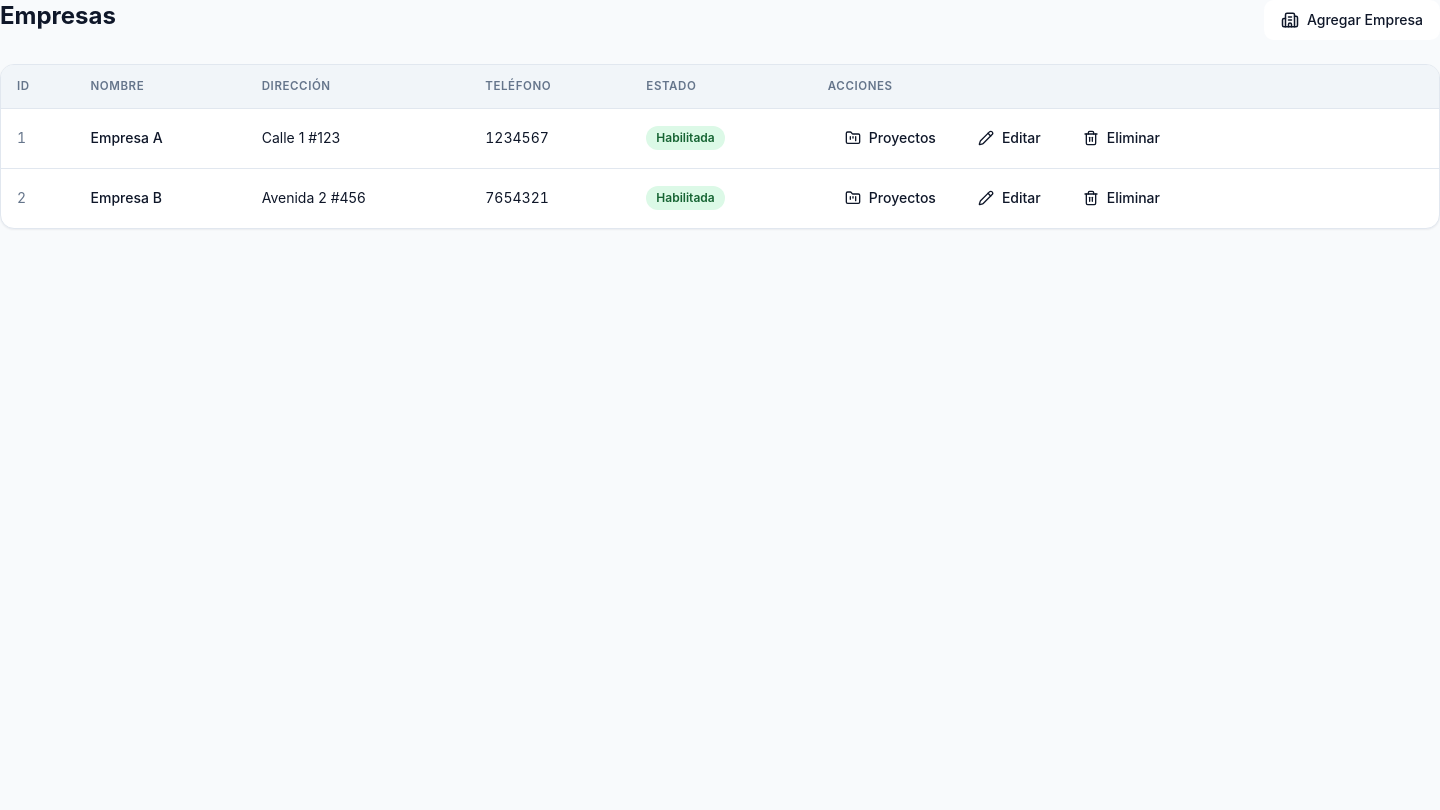
Test case: EmpresasPage Integration Tests › Full creation flow › should create a new empresa: click "Agregar Empresa" → fill fields → click "Guardar" → new empresa appears in table
expect the text "Empresa A" is shown: met, box 74,108 -> 246,168
// Click "Agregar Empresa" button (it's the one in the header, not the modal title)
Step 1. Click the button "Agregar Empresa" → (1352, 20), box 1264,0 -> 1439,40
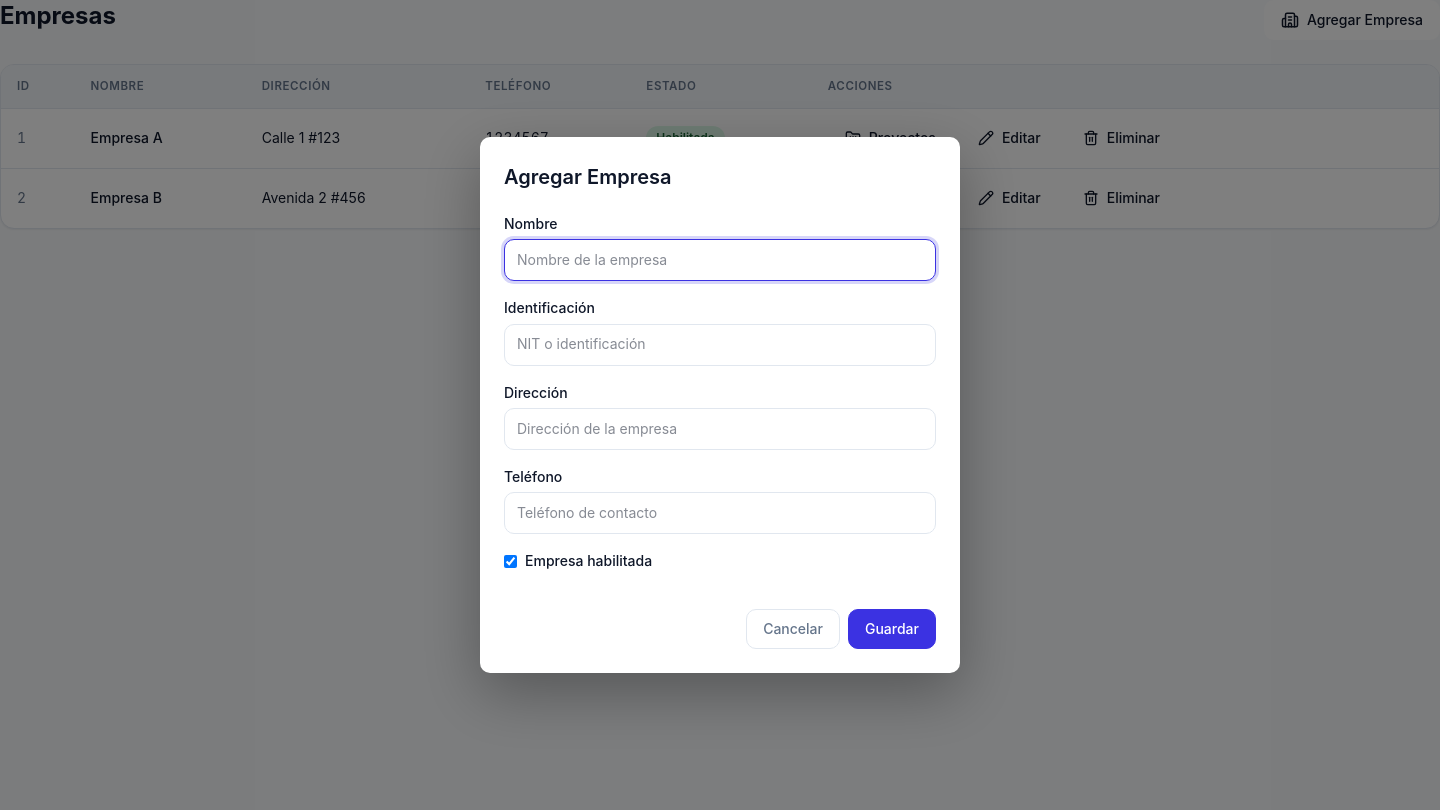
expect the dialog is shown: met, box 480,137 -> 960,673
Step 2. Type "Empresa Nueva" into the field labelled "Nombre" → (720, 260), box 504,239 -> 936,281
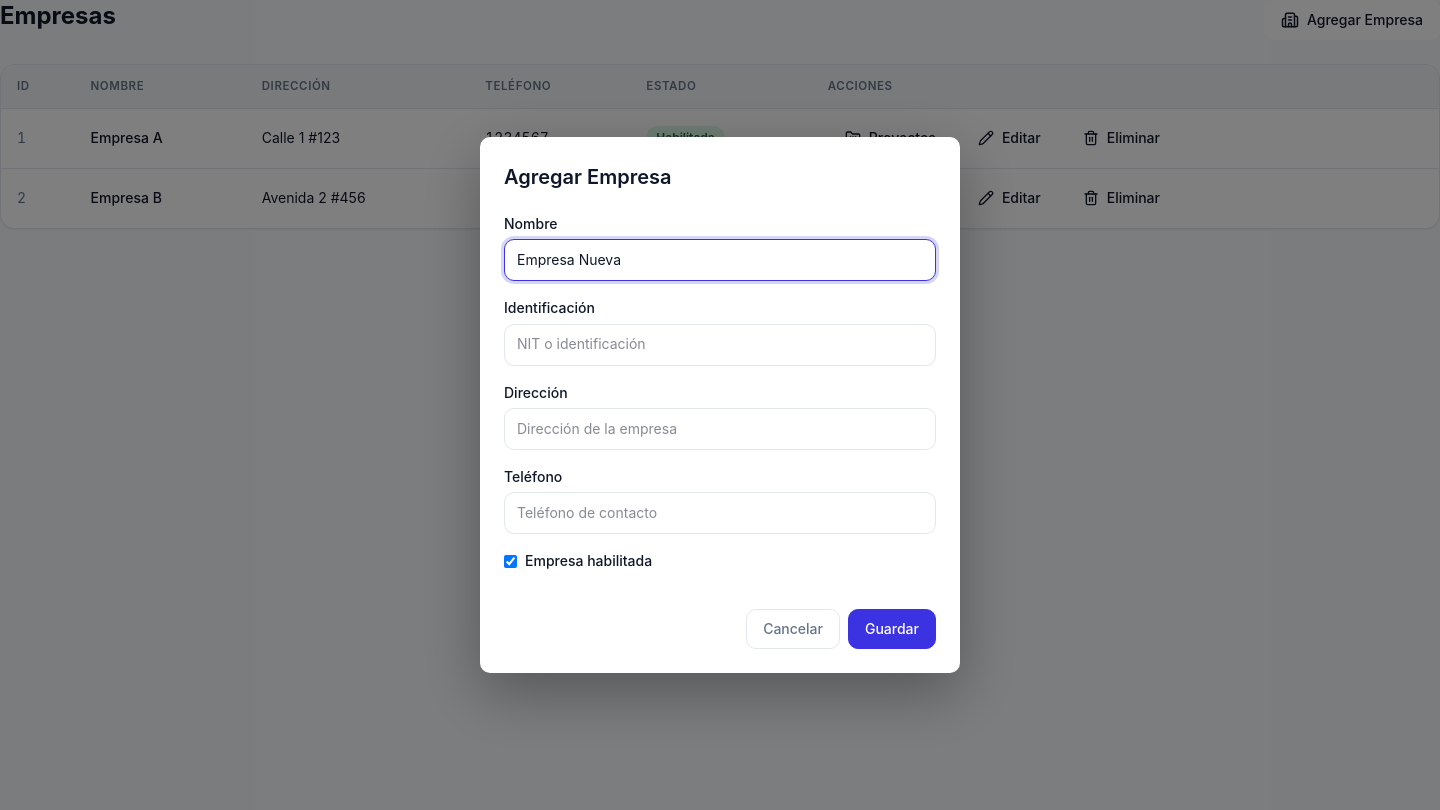
Step 3. Type "NIT-003" into the field labelled "Identificación" → (720, 345), box 504,324 -> 936,366
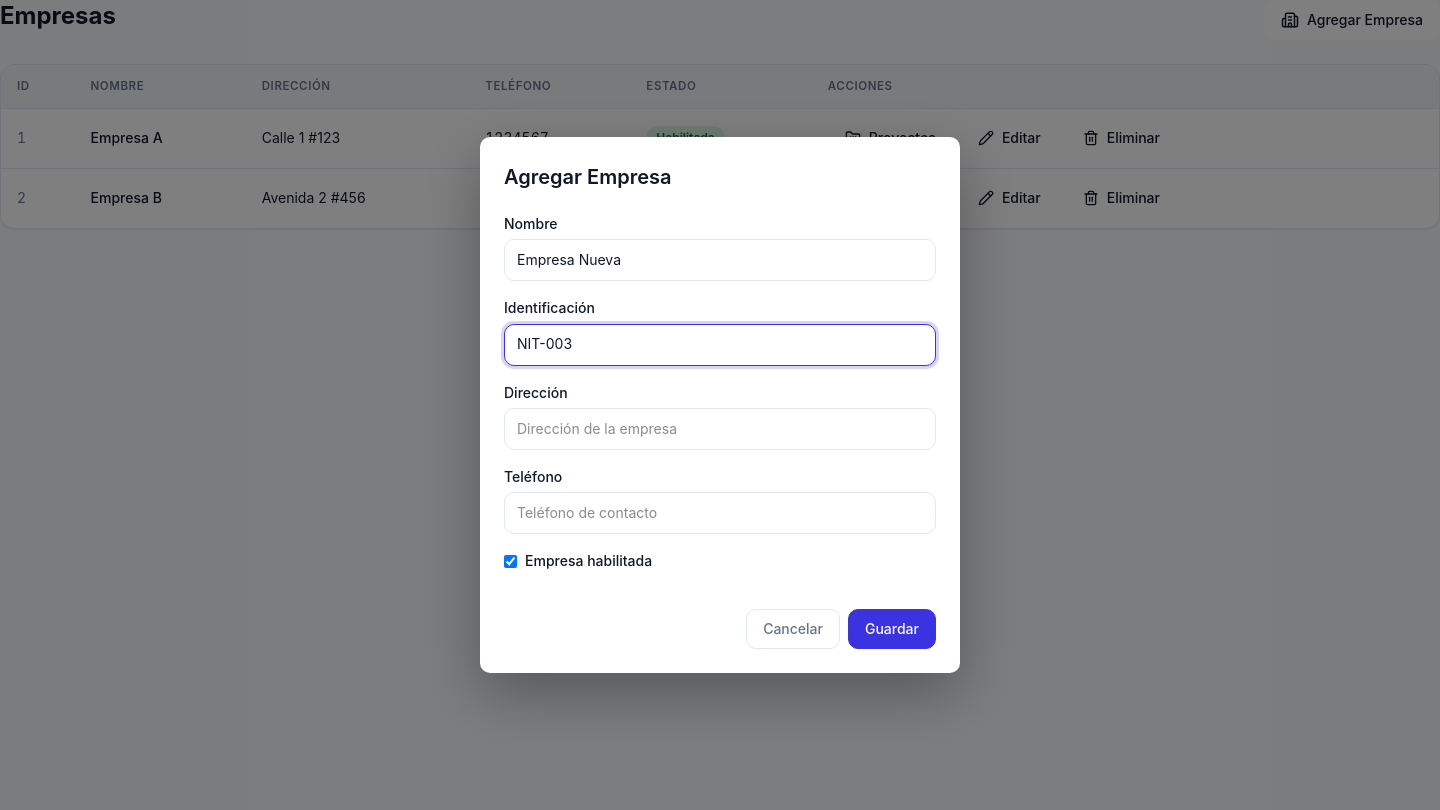
Step 4. Type "Calle Nueva #789" into the field labelled "Dirección" → (720, 429), box 504,408 -> 936,450
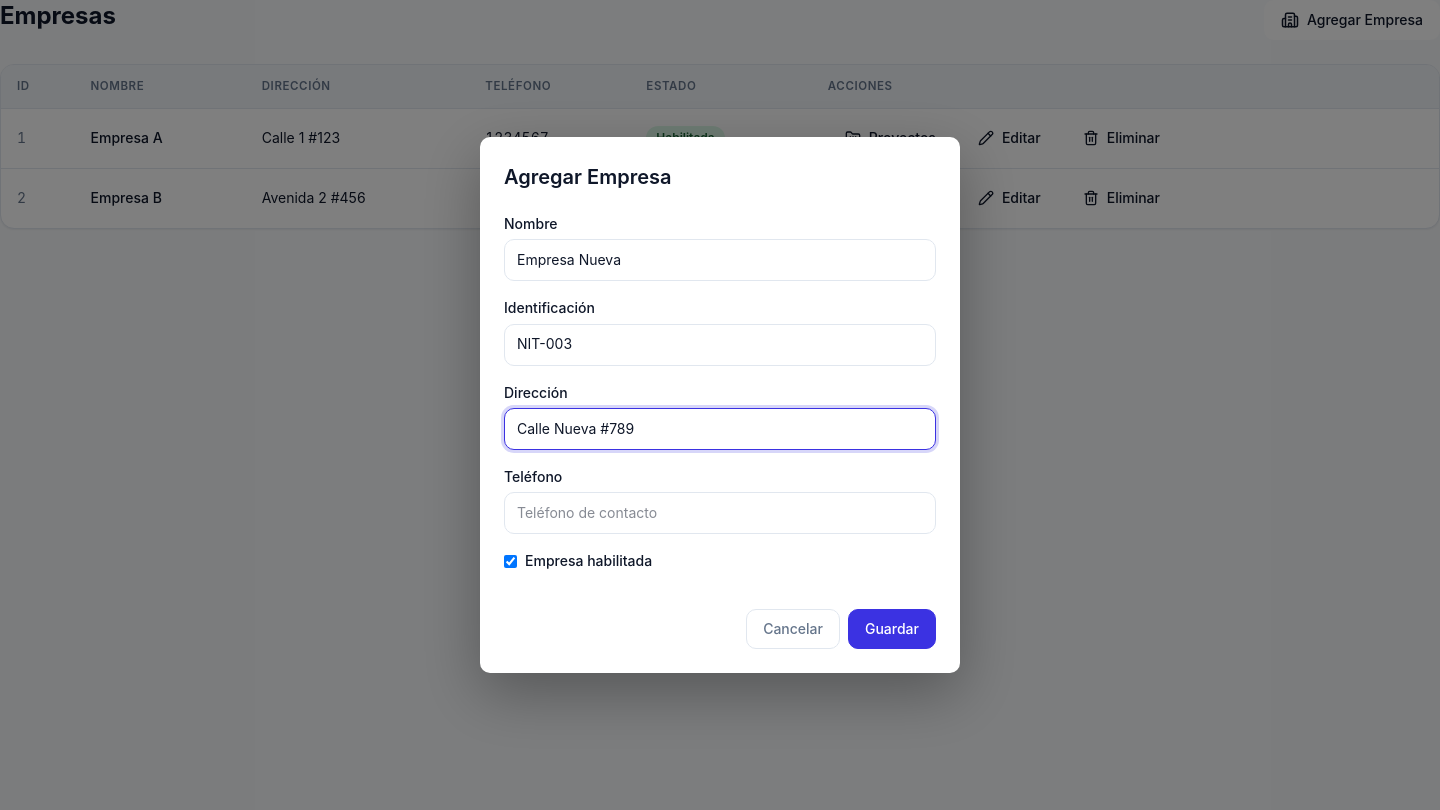
Step 5. Type "9876543" into the field labelled "Teléfono" → (720, 513), box 504,492 -> 936,534
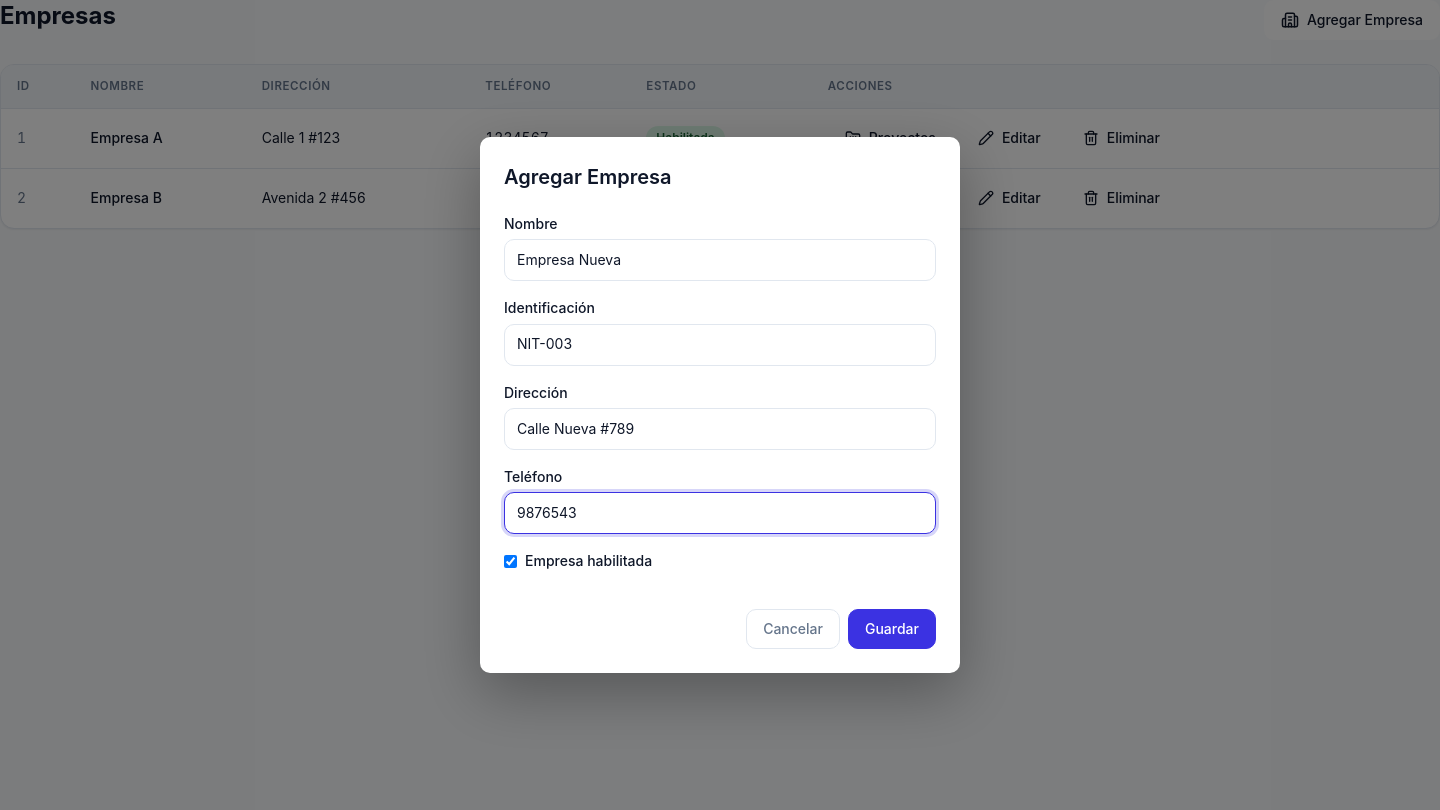
// Click "Guardar" inside the modal
Step 6. Click the button "Guardar" → (892, 629), box 848,609 -> 936,649
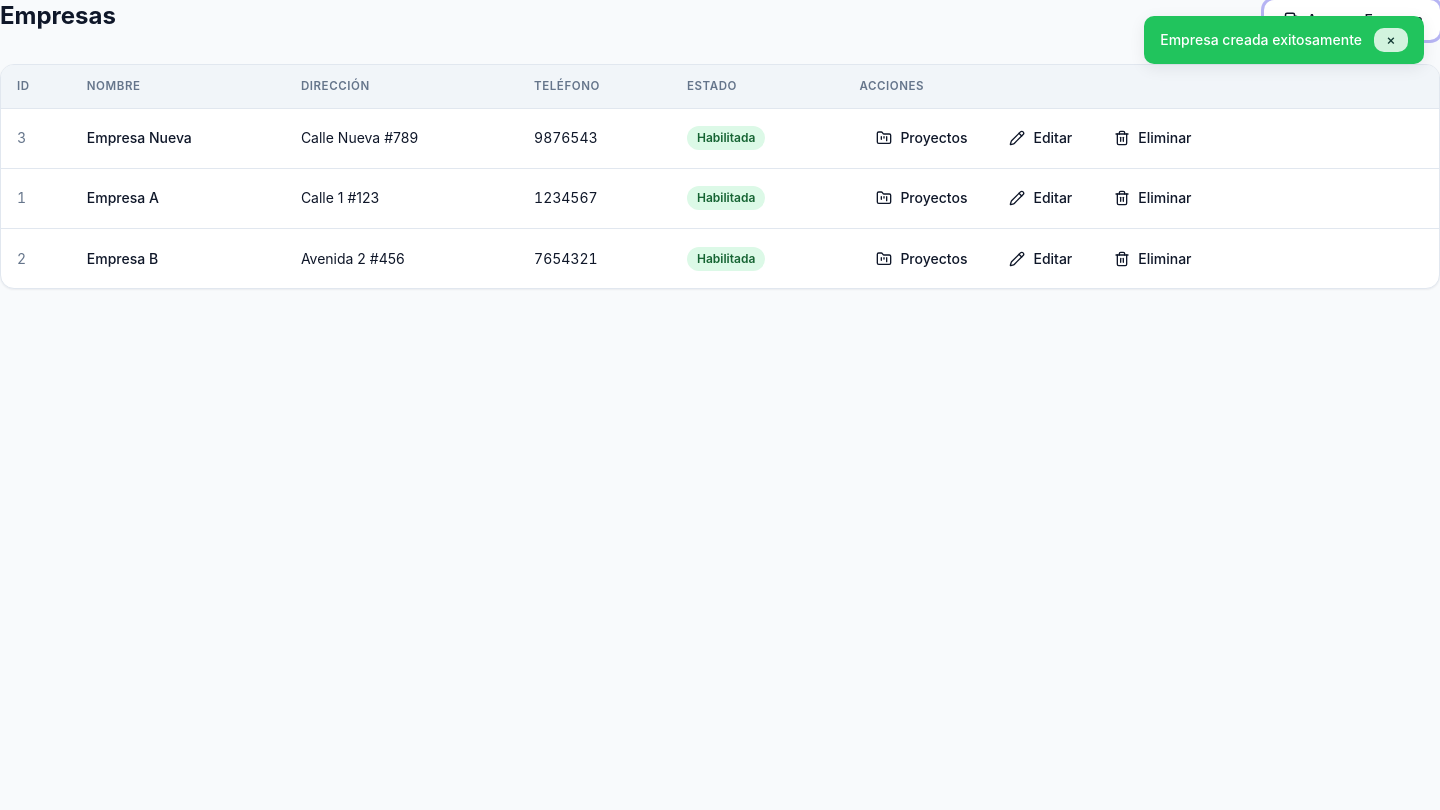
expect the dialog is gone: met
expect the text "Empresa Nueva" is shown: met, box 71,108 -> 285,168
expect the text "Calle Nueva #789" is shown: met, box 285,108 -> 518,168
